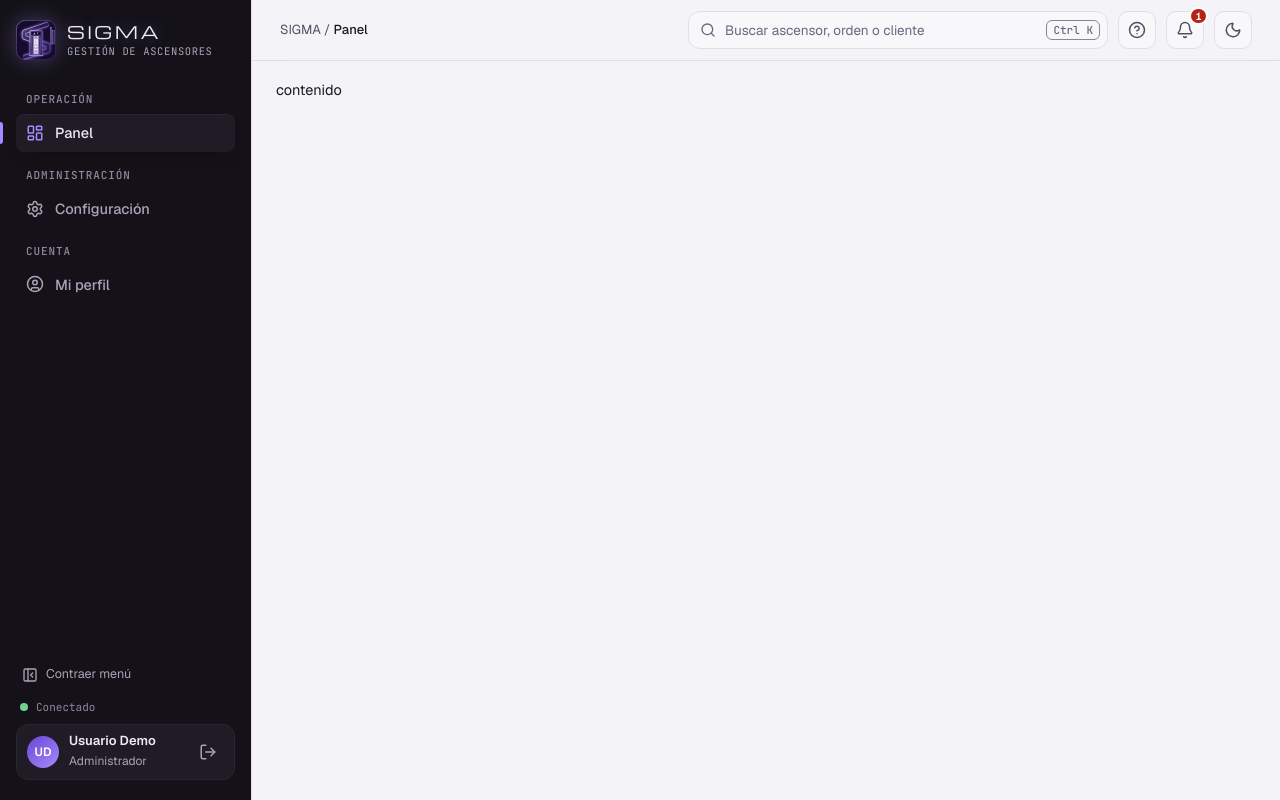
Test: menú de la fase 2 según permisos › la campana muestra las notificaciones sin leer
The width and height of the screenshot is (1280, 800).
Expected: the link "Configuración" is shown, [26,199,150,218]
Click the button named "Notificaciones: 1 sin leer". click: (1185, 30)
box: [1166,11,1204,49]
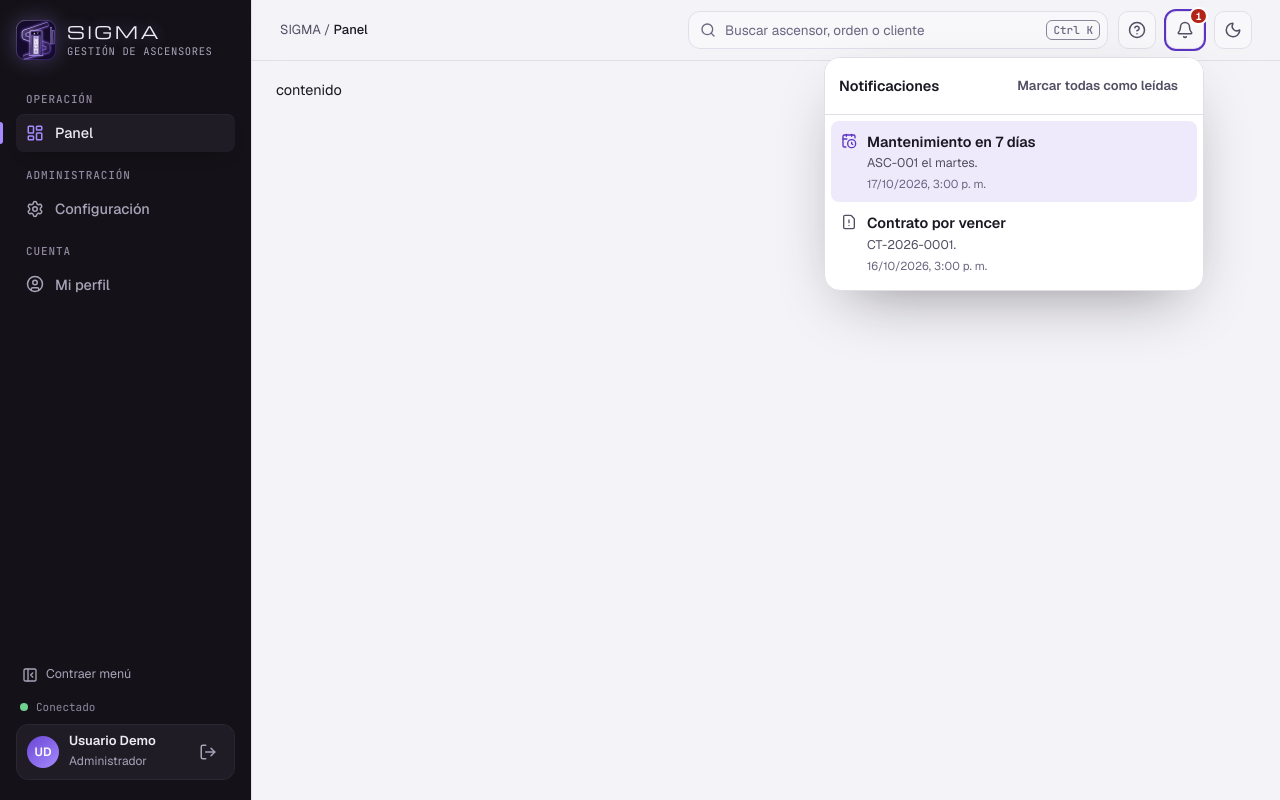
Result: the text "Mantenimiento en 7 días" is shown at [867,130,1036,152]
Result: the text "Contrato por vencer" is shown at [867,212,1006,234]
